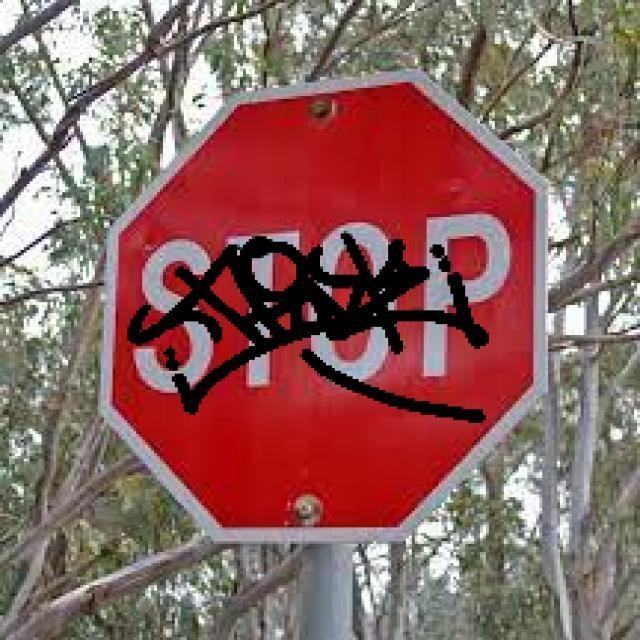Stop-Sign: (116, 106, 526, 512)
